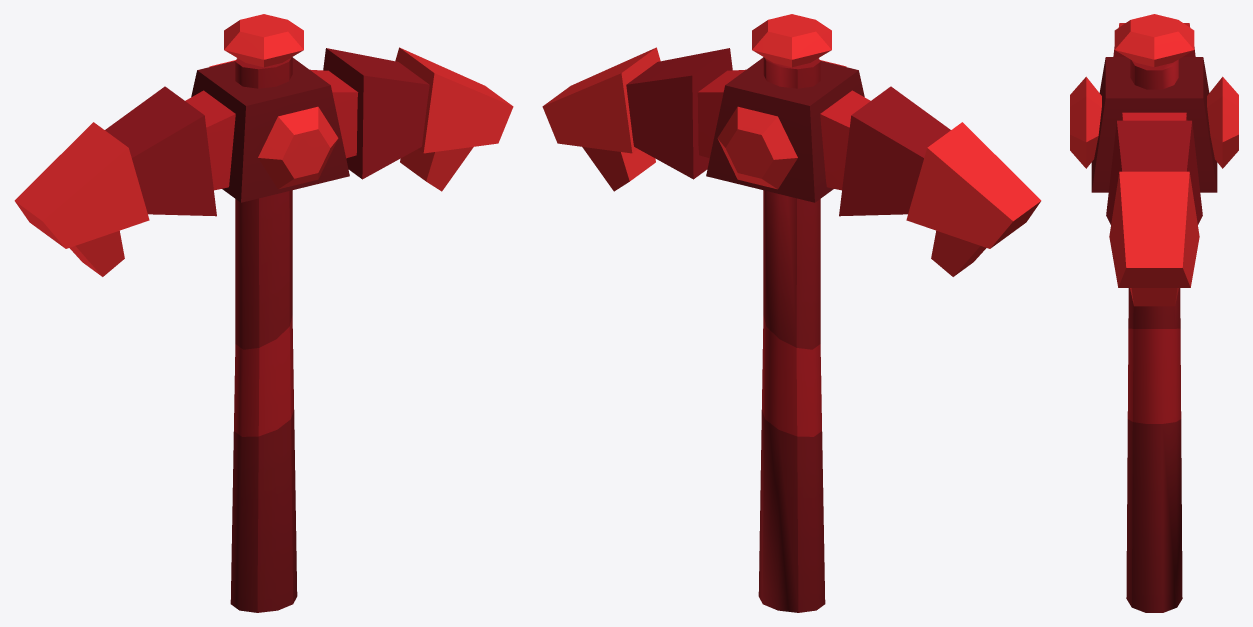
The model's file is 12_pickaxe_Ruby.fbx.
The picture shows the model from 3 angles, left to right: view 1: azimuth 30°, elevation 25°; view 2: azimuth 150°, elevation 25°; view 3: azimuth 270°, elevation 25°; orthographic projection.
Visible parts, largest first — view 1: 12_pickaxe_Ruby; view 2: 12_pickaxe_Ruby; view 3: 12_pickaxe_Ruby.
Boxes of the visible parts, bbox=[...] form: 12_pickaxe_Ruby: bbox=[14, 14, 513, 612]; 12_pickaxe_Ruby: bbox=[542, 14, 1041, 612]; 12_pickaxe_Ruby: bbox=[1070, 14, 1238, 612].
Size of the model in its own units: 102 by 118 by 31.65.
